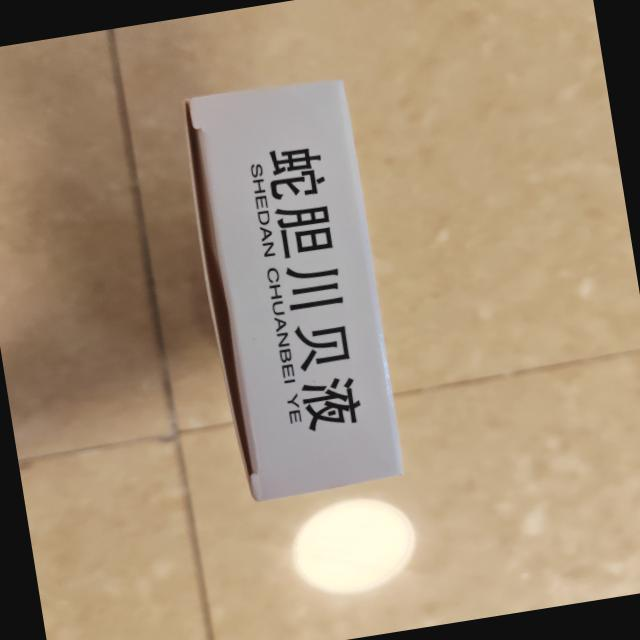box: (172, 61, 424, 514)
